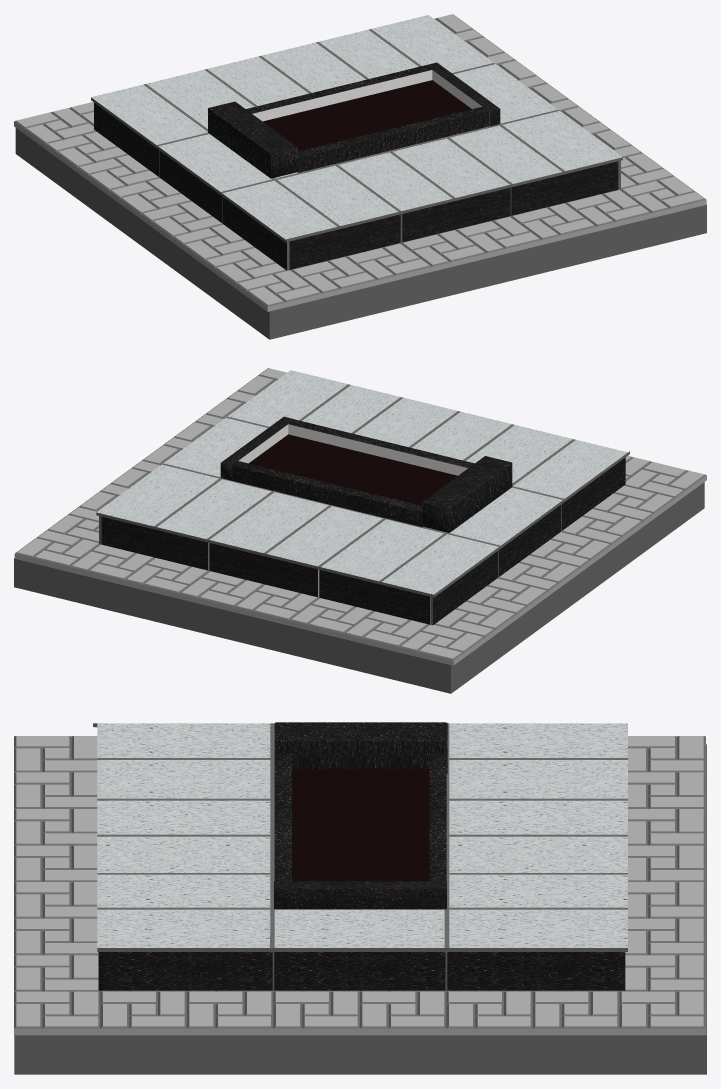
File: 180-180-15 мансур [u_2_u] .glb
3 renders of one model, top to bottom at view 1: azimuth 30°, elevation 25°; view 2: azimuth 150°, elevation 25°; view 3: azimuth 270°, elevation 25°, orthographic. The views are drawn at different scales.
Visible parts, largest first — view 1: Cube.190, plitka.006, Cube.191, Cube.188, Plane.014, Cube.192, plitka.007, Куб.247, Куб.244, Куб.245, Куб.246; view 2: Cube.190, Cube.191, plitka.007, plitka.006, Cube.187, Plane.014, Cube.192, Куб.245, Куб.244, Куб.247, Куб.246; view 3: Cube.190, plitka.006, Cube.191, plitka.007, Cube.189, Plane.014, Куб.244, Куб.246, Куб.245, Куб.247.
Boxes of the visible parts, x1=… form: Cube.190: x1=91, y1=15, x2=622, y2=243; plitka.006: x1=77, y1=60, x2=706, y2=311; Cube.191: x1=15, y1=128, x2=706, y2=339; Cube.188: x1=289, y1=161, x2=618, y2=269; Plane.014: x1=263, y1=80, x2=471, y2=151; Cube.192: x1=94, y1=103, x2=289, y2=270; plitka.007: x1=14, y1=14, x2=515, y2=172; Куб.247: x1=297, y1=106, x2=488, y2=172; Куб.244: x1=208, y1=101, x2=297, y2=178; Куб.245: x1=246, y1=65, x2=432, y2=121; Куб.246: x1=426, y1=62, x2=500, y2=126; Cube.190: x1=96, y1=370, x2=629, y2=597; Cube.191: x1=14, y1=482, x2=704, y2=693; plitka.007: x1=14, y1=507, x2=516, y2=665; plitka.006: x1=78, y1=368, x2=706, y2=618; Cube.187: x1=101, y1=516, x2=430, y2=624; Plane.014: x1=249, y1=434, x2=457, y2=505; Cube.192: x1=430, y1=457, x2=625, y2=625; Куб.245: x1=230, y1=461, x2=422, y2=526; Куб.244: x1=422, y1=456, x2=512, y2=532; Куб.247: x1=288, y1=419, x2=474, y2=475; Куб.246: x1=220, y1=416, x2=294, y2=480; Cube.190: x1=93, y1=723, x2=627, y2=951; plitka.006: x1=14, y1=736, x2=532, y2=1035; Cube.191: x1=14, y1=744, x2=706, y2=1074; plitka.007: x1=533, y1=736, x2=705, y2=1035; Cube.189: x1=98, y1=952, x2=625, y2=990; Plane.014: x1=292, y1=768, x2=429, y2=881; Куб.244: x1=274, y1=722, x2=447, y2=773; Куб.246: x1=274, y1=881, x2=446, y2=909; Куб.245: x1=429, y1=754, x2=446, y2=882; Куб.247: x1=274, y1=754, x2=291, y2=881.
Bounding box in the file's own units: 2.4 × 0.4814 × 2.4.
8 materials, 3 textured.
